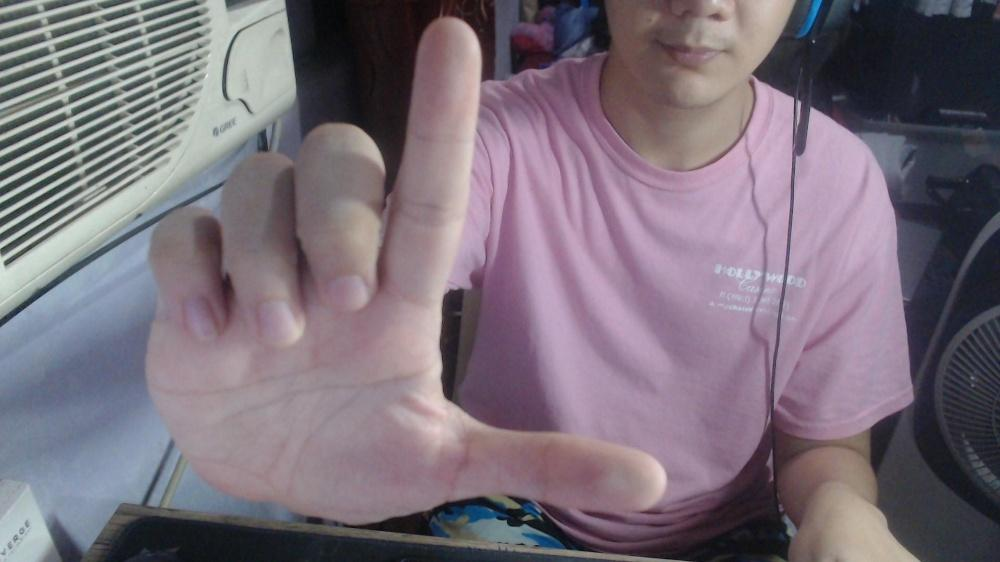l: (141, 15, 669, 532)
